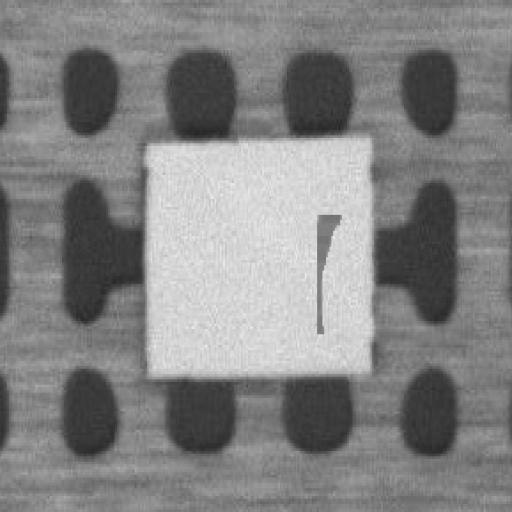DIE_INK: (316, 212, 340, 324)
